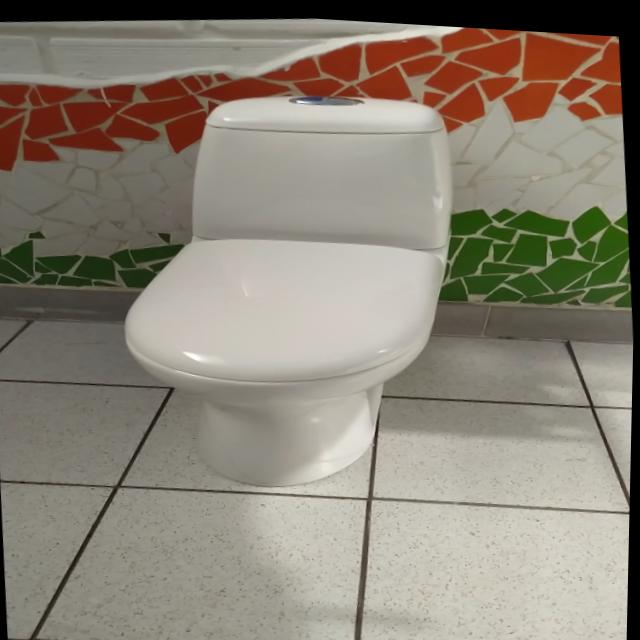toilet: (106, 71, 477, 502)
